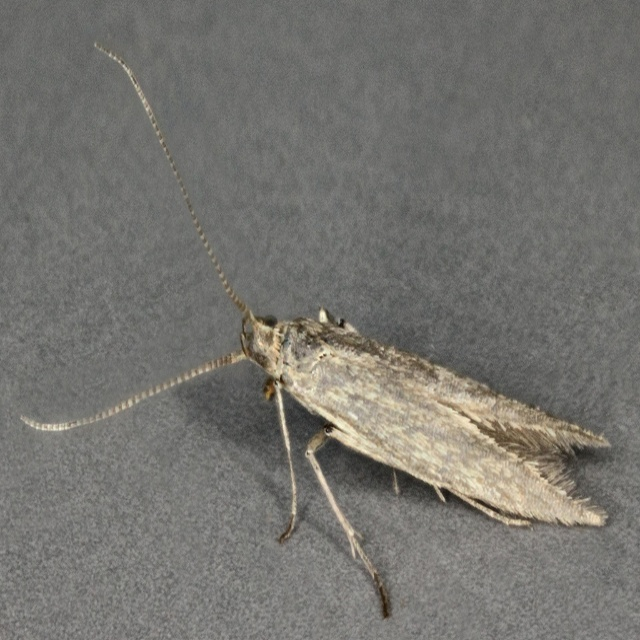Moths and butterflies: (19, 39, 608, 617)
